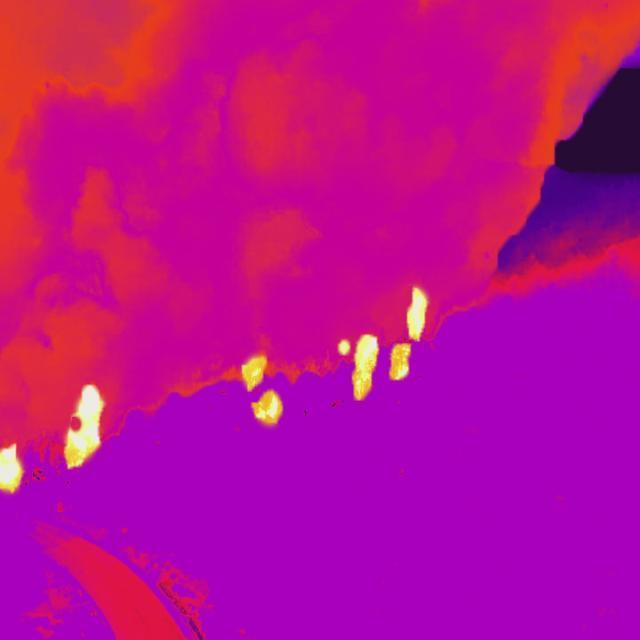fire: (333, 277, 434, 409), (238, 350, 294, 434), (63, 384, 112, 475), (1, 443, 34, 497), (28, 347, 29, 348)
